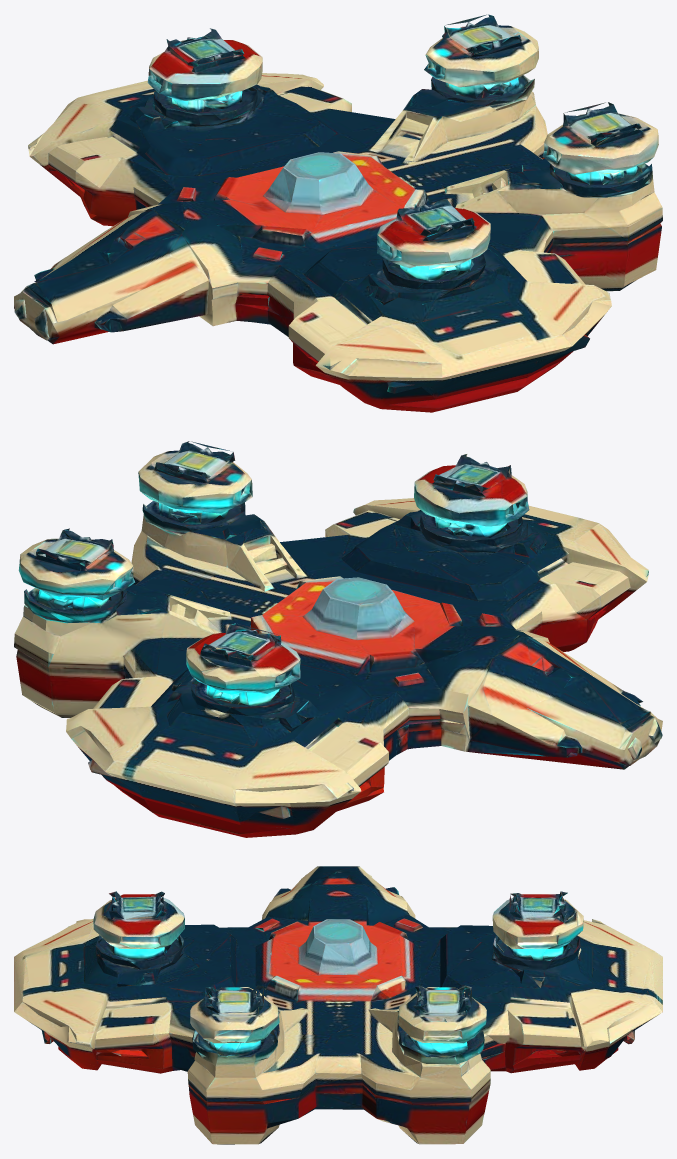
The model's file is nation-d-fortress.glb.
The picture shows the model from 3 angles, top to bottom: view 1: azimuth 30°, elevation 25°; view 2: azimuth 150°, elevation 25°; view 3: azimuth 270°, elevation 25°; orthographic projection. The views are drawn at different scales.
Bounding box in the file's own units: 1.65 × 0.4494 × 1.9.
1 material, 1 textured.
